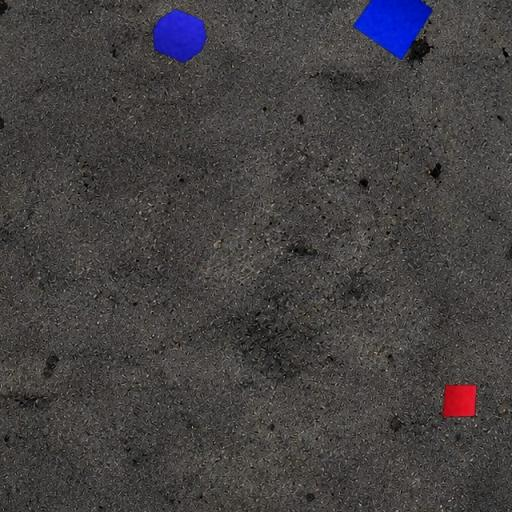BLUE_SQUARE: (352, 0, 434, 61)
RED_SQUARE: (442, 384, 476, 418)
